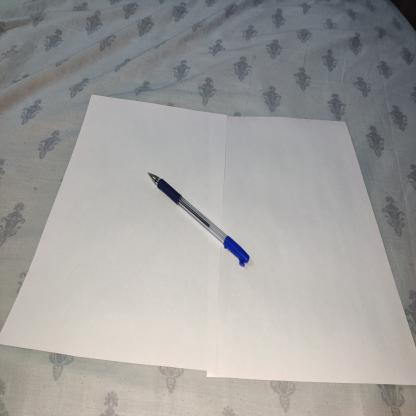Pen: (143, 162, 256, 278)
